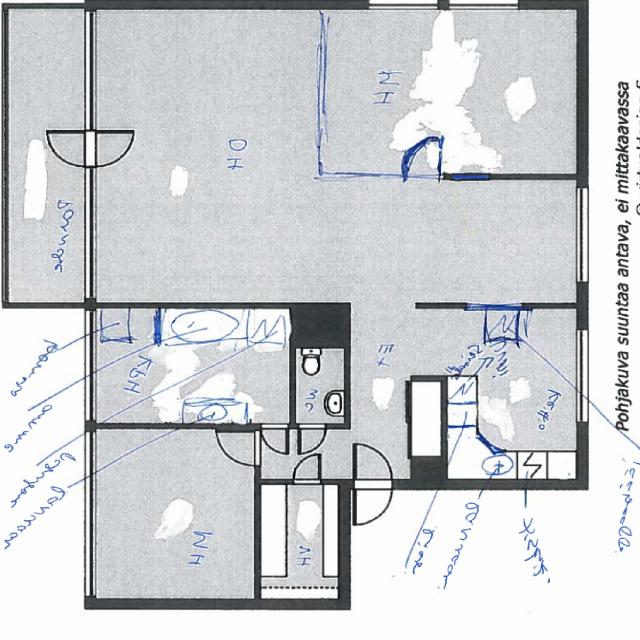door: (45, 131, 97, 167), (85, 131, 136, 167), (356, 444, 394, 490), (356, 479, 394, 525), (218, 432, 261, 466), (404, 140, 440, 180), (297, 423, 326, 456), (294, 453, 321, 485), (262, 423, 288, 454)
